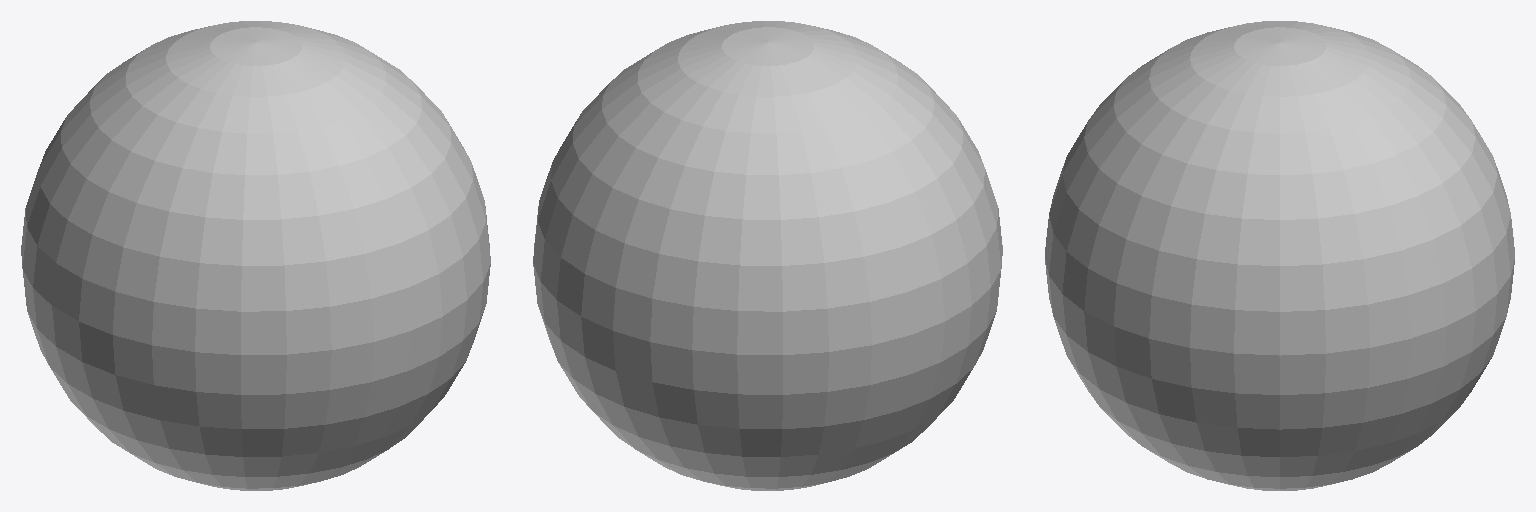
Rendered from tethus.obj.
The picture shows the model from 3 angles: view 1: azimuth 30°, elevation 25°; view 2: azimuth 150°, elevation 25°; view 3: azimuth 270°, elevation 25°; orthographic projection.
Parts seen in each view (by area): view 1: Sphere_Sphere.007; view 2: Sphere_Sphere.007; view 3: Sphere_Sphere.007.
Boxes of the visible parts, box(x1,y1,x2,y2) form: Sphere_Sphere.007: box(21, 21, 490, 490); Sphere_Sphere.007: box(533, 21, 1002, 490); Sphere_Sphere.007: box(1045, 21, 1514, 490).
Bounding box in the file's own units: 2 × 2 × 2.